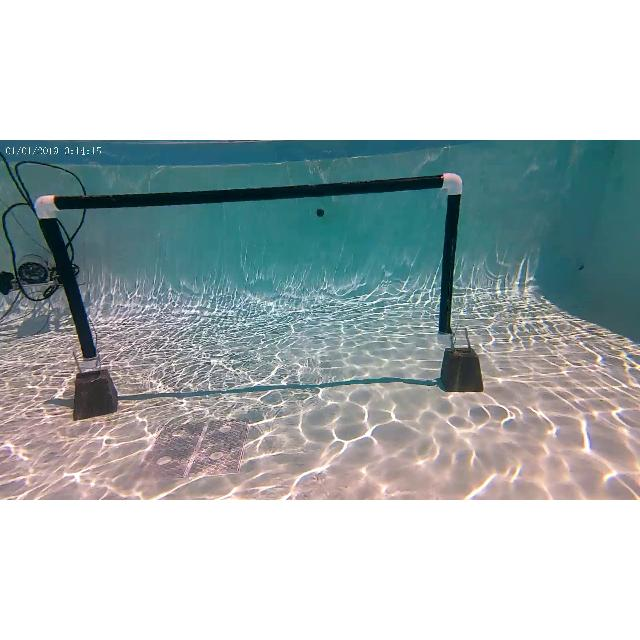prequal gate: (36, 172, 464, 368)
prequal gate leg l: (28, 192, 114, 378)
prequal gate leg r: (428, 168, 468, 360)
